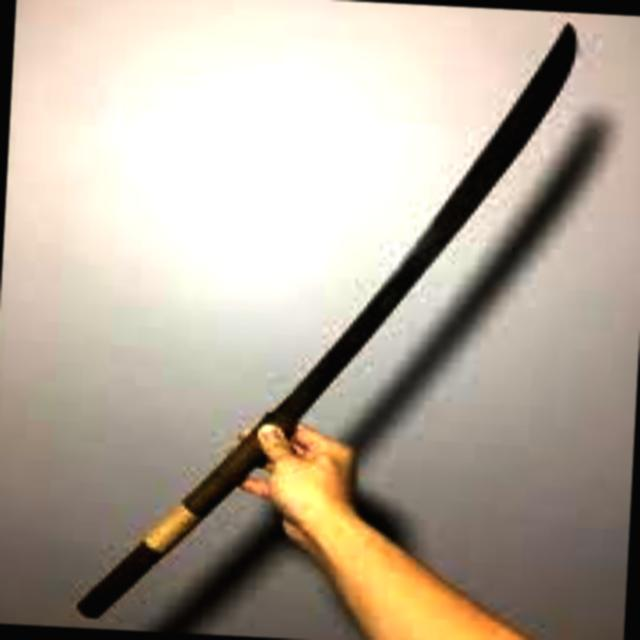long sword: (69, 0, 588, 640)
